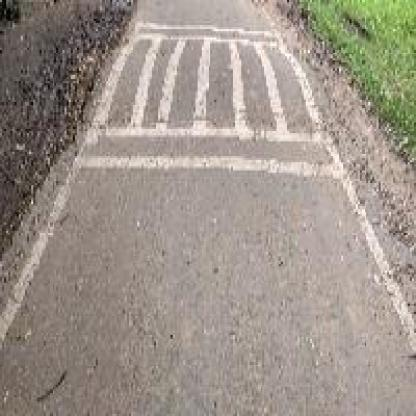Speed Bump: (69, 15, 347, 181)
